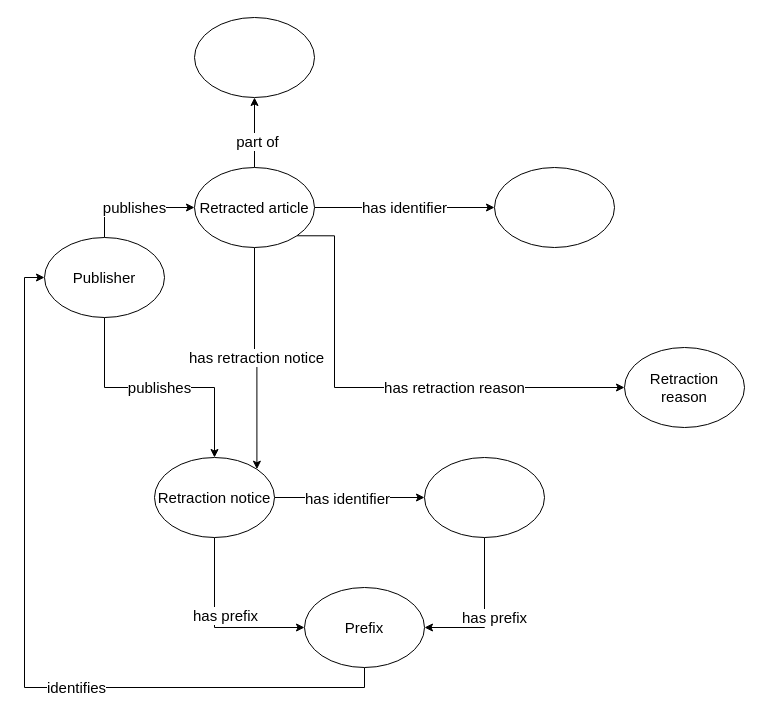
The diagram is 762 pixels wide and 714 high, and some of its shapes have lost their labels. The shapes that lost their labels are listed below. From the top down, each one's centre as x and y in pixels, then its label:
the point at 254,57: Retractable
the point at 554,207: Article identifier
the point at 484,497: Retraction notice identifier
